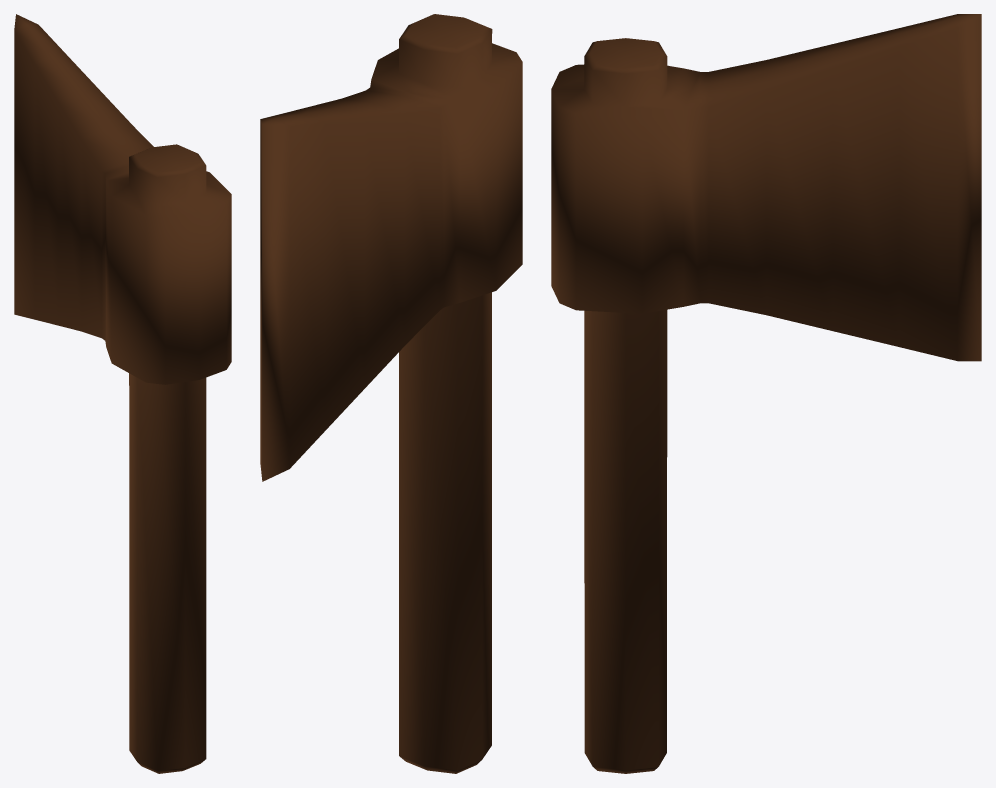
The model's file is axe.fbx.
The picture shows the model from 3 angles, left to right: view 1: azimuth 30°, elevation 25°; view 2: azimuth 150°, elevation 25°; view 3: azimuth 270°, elevation 25°; orthographic projection. The views are drawn at different scales.
Parts seen in each view (by area): view 1: Axe; view 2: Axe; view 3: Axe.
Boxes of the visible parts, x1=… form: Axe: x1=14, y1=14, x2=231, y2=773; Axe: x1=260, y1=14, x2=522, y2=773; Axe: x1=551, y1=14, x2=981, y2=773.
Size of the model in its own units: 16 by 99.18 by 51.95.
